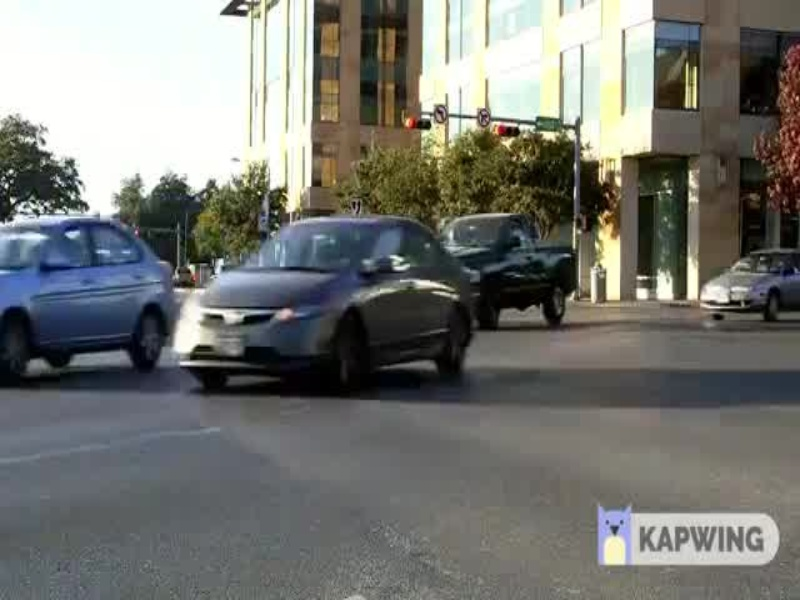car: (171, 214, 474, 413), (693, 250, 800, 321)
